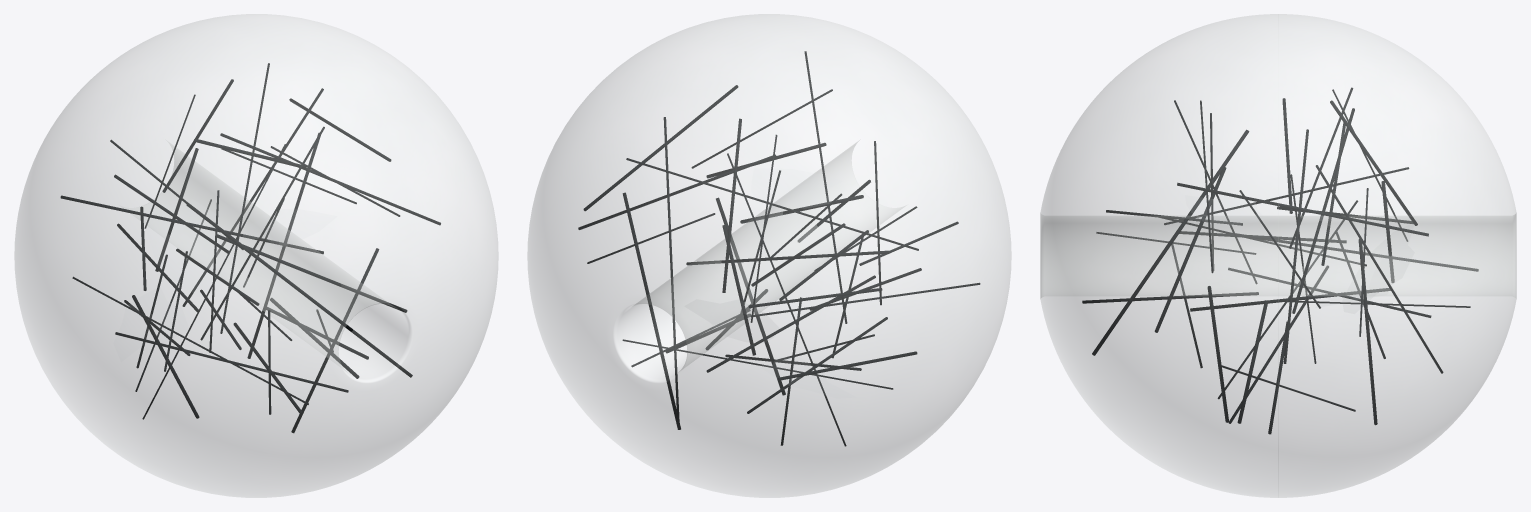
The model's file is black-rutilated-quartz-6mm.glb.
3 views of the same model, side by side, from view 1: azimuth 30°, elevation 25°; view 2: azimuth 150°, elevation 25°; view 3: azimuth 270°, elevation 25° (orthographic).
Visible parts, largest first — view 1: black-rutilated-quartz.001, black-rutilated-quartz_WEB_needles_38; view 2: black-rutilated-quartz.001, black-rutilated-quartz_WEB_needles_38; view 3: black-rutilated-quartz.001, black-rutilated-quartz_WEB_needles_38.
Part boxes in pixels (x1=…): black-rutilated-quartz.001: x1=14, y1=14, x2=498, y2=497; black-rutilated-quartz_WEB_needles_38: x1=60, y1=63, x2=440, y2=433; black-rutilated-quartz.001: x1=527, y1=14, x2=1011, y2=497; black-rutilated-quartz_WEB_needles_38: x1=578, y1=51, x2=980, y2=446; black-rutilated-quartz.001: x1=1040, y1=14, x2=1516, y2=497; black-rutilated-quartz_WEB_needles_38: x1=1082, y1=87, x2=1478, y2=434.
Size of the model in its own units: 0.006 by 0.006 by 0.0059.
Materials: 3 (1 with a texture image).
